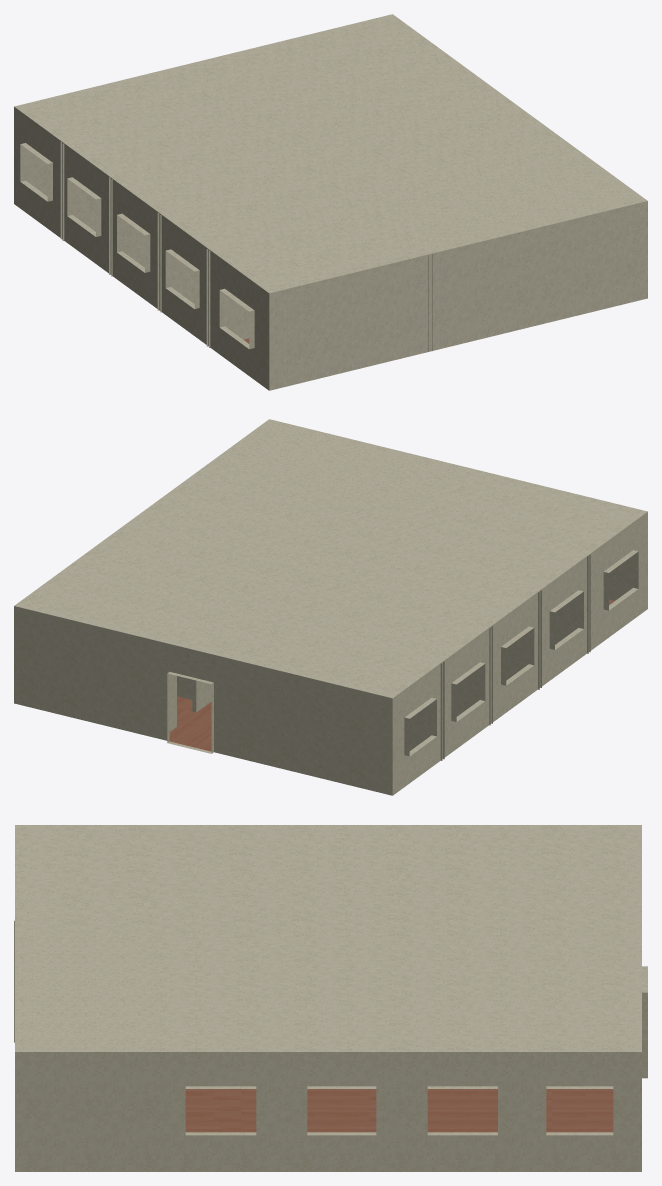
The model's file is inside.glb.
3 views of the same model, one above another, from view 1: azimuth 30°, elevation 25°; view 2: azimuth 150°, elevation 25°; view 3: azimuth 270°, elevation 25° (orthographic). The views are drawn at different scales.
Parts seen in each view (by area): view 1: walls; view 2: walls; view 3: walls.
Part boxes in pixels (bbox=[...]): walls: bbox=[14, 14, 647, 390]; walls: bbox=[14, 419, 647, 795]; walls: bbox=[14, 825, 647, 1171].
Size of the model in its own units: 3.32 by 0.7947 by 3.81.
Materials: 2 (2 with a texture image).
